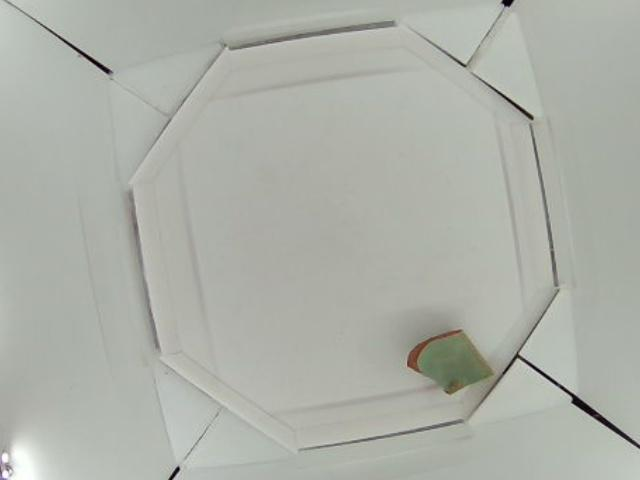China: (405, 328, 497, 393)
